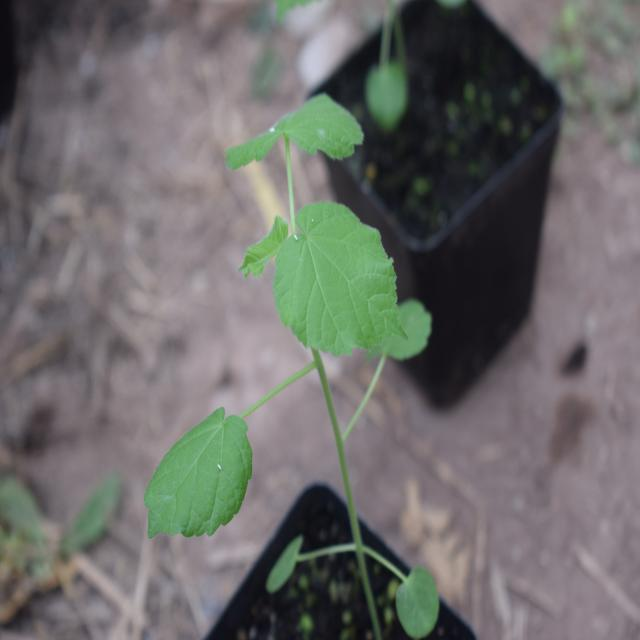abutilon theophrasti: (128, 65, 488, 579)
